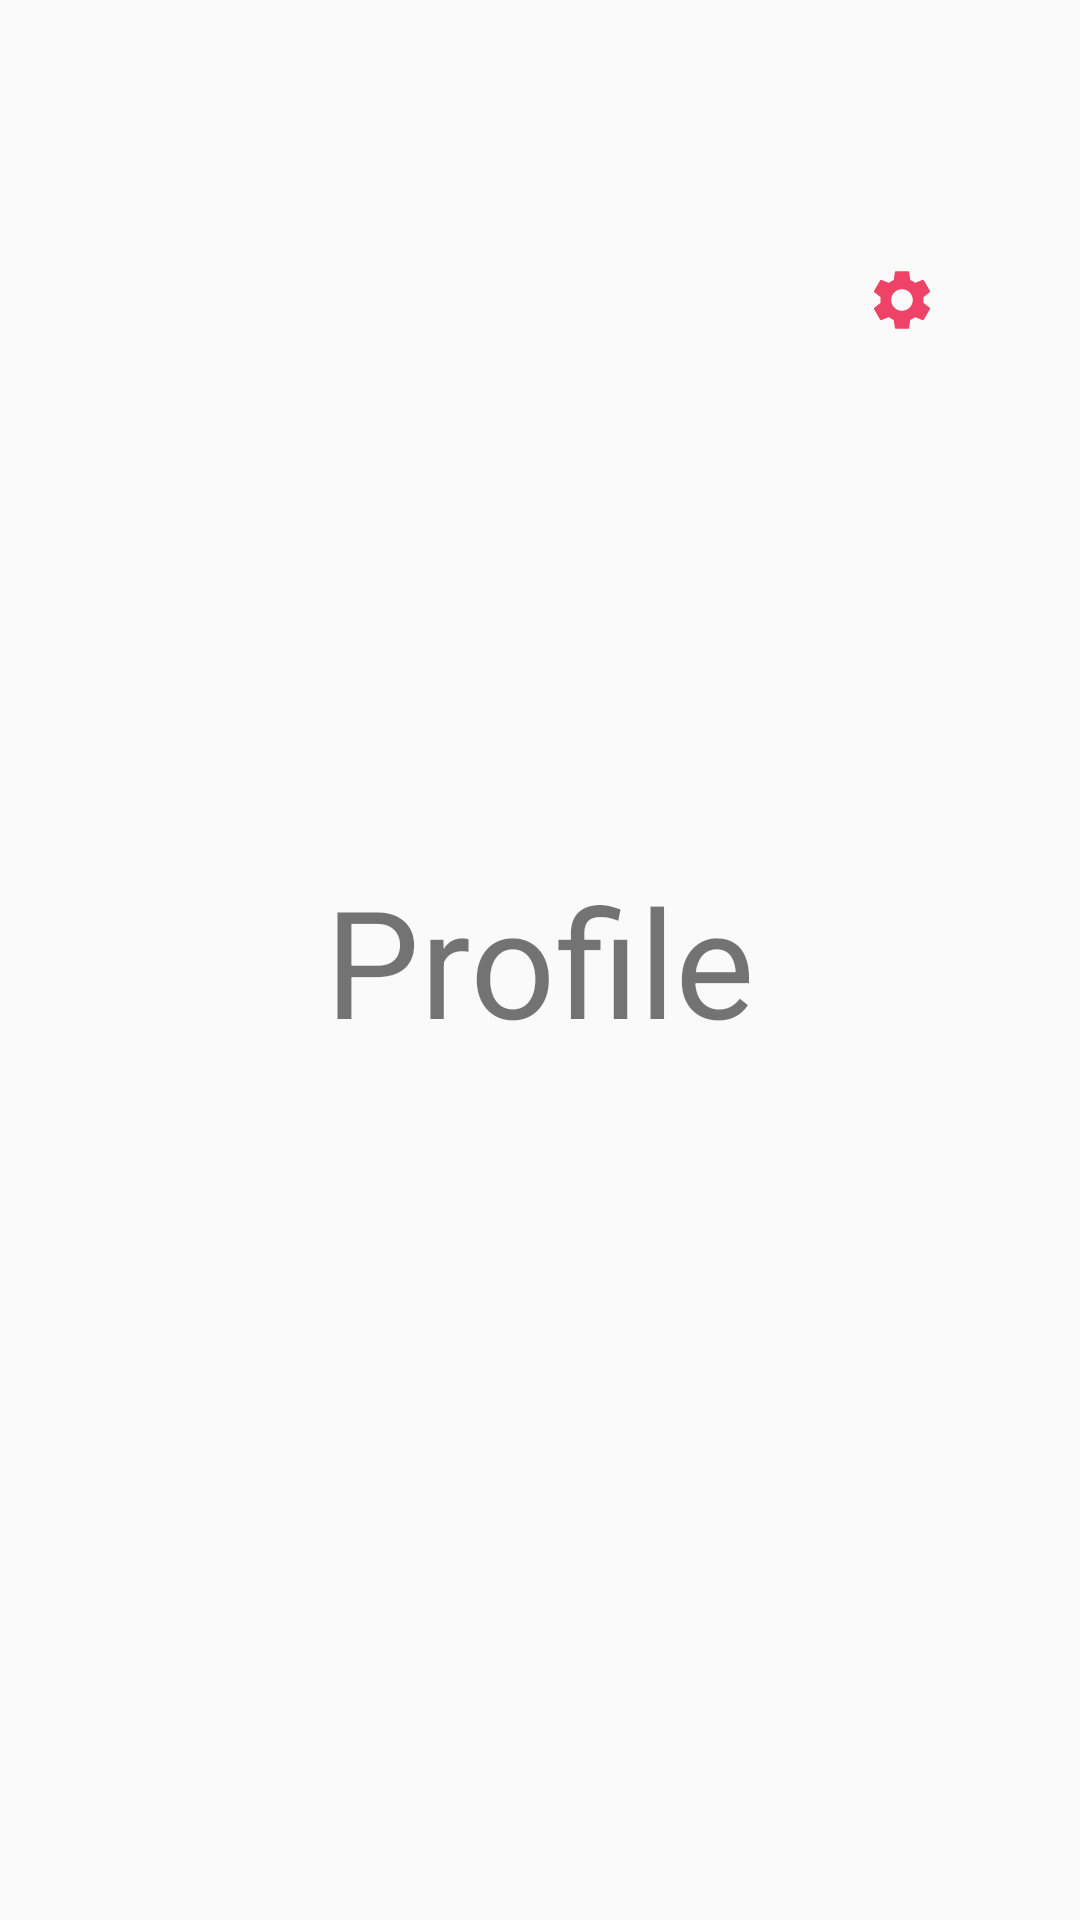

Icons on this 1080px x 1920px Android screen, each with the point to tap as point (x, y):
settings: point (902, 300)
